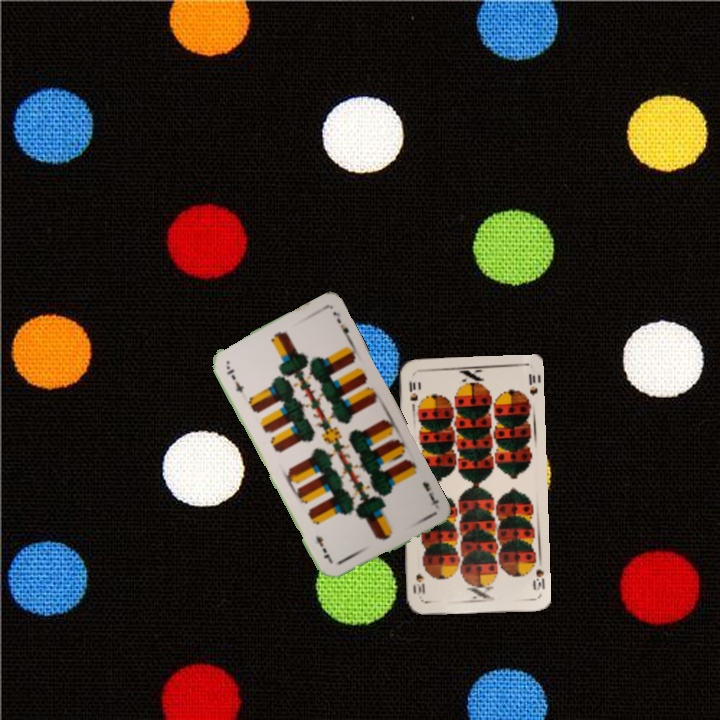E7: (222, 361, 246, 395), (418, 478, 441, 508)
S10: (405, 377, 420, 412), (529, 565, 547, 593)
